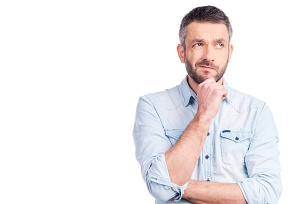male: (178, 8, 233, 88)
